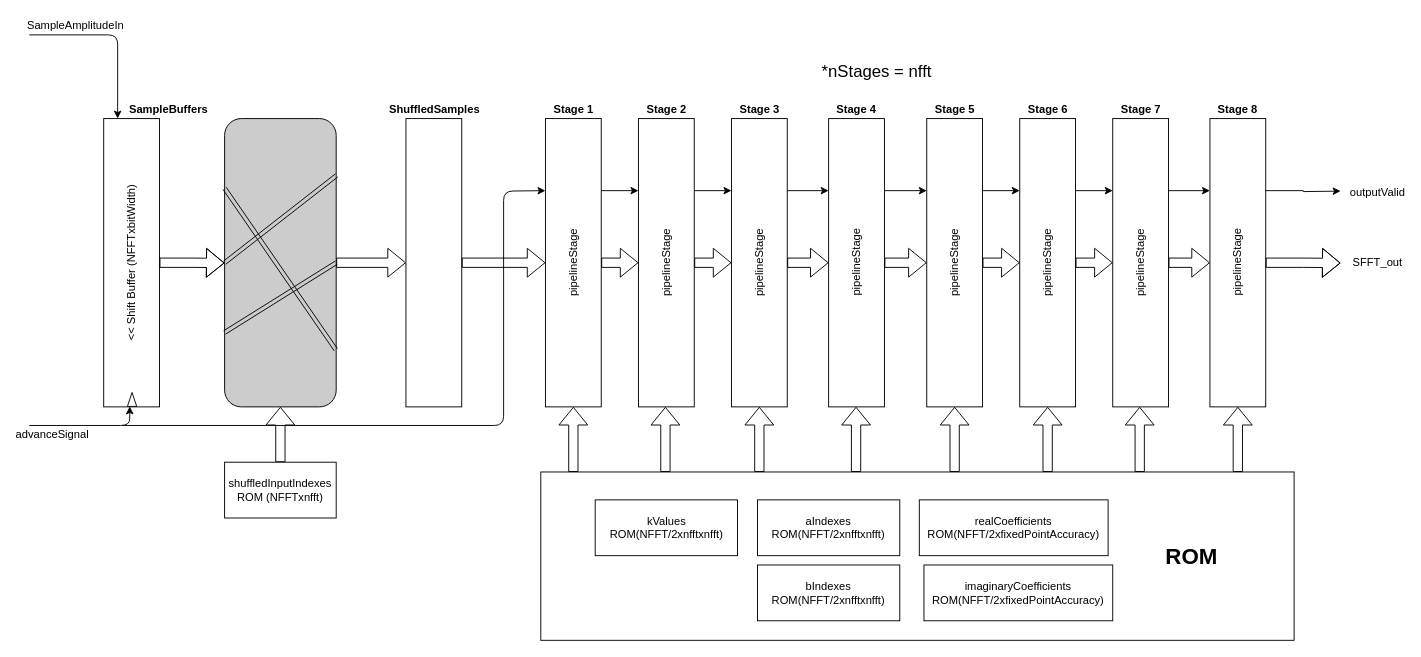
Some shapes in this 1421 by 657 pixel diagram are drawn without their labels. Each missing label, with the centre of its shape:
Latch Array (NFFTxbitWidth): (x=433, y=262)
Shuffling Bus: (x=280, y=262)
